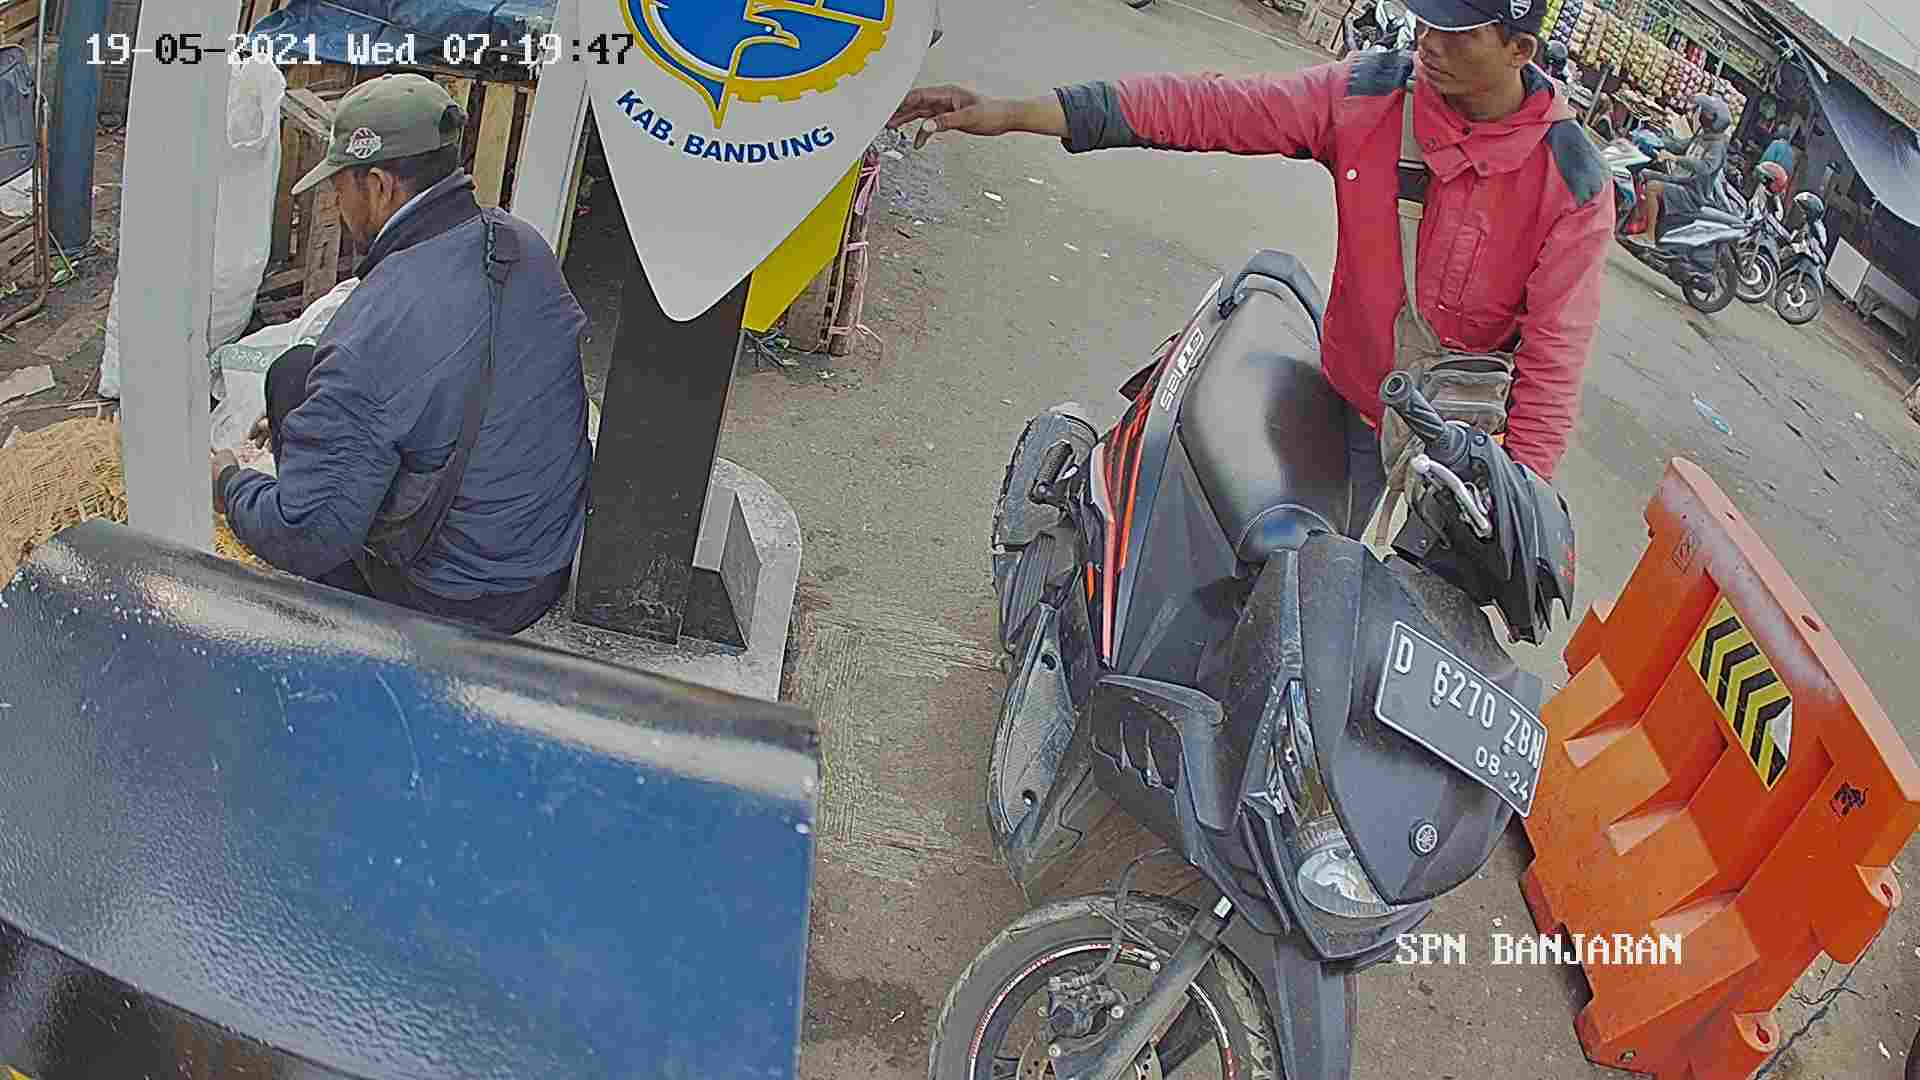motor: (951, 256, 1528, 1080)
